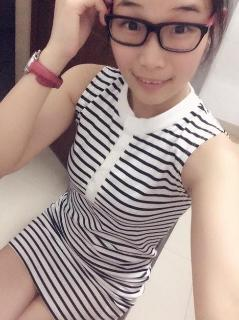vest: (7, 65, 228, 319)
